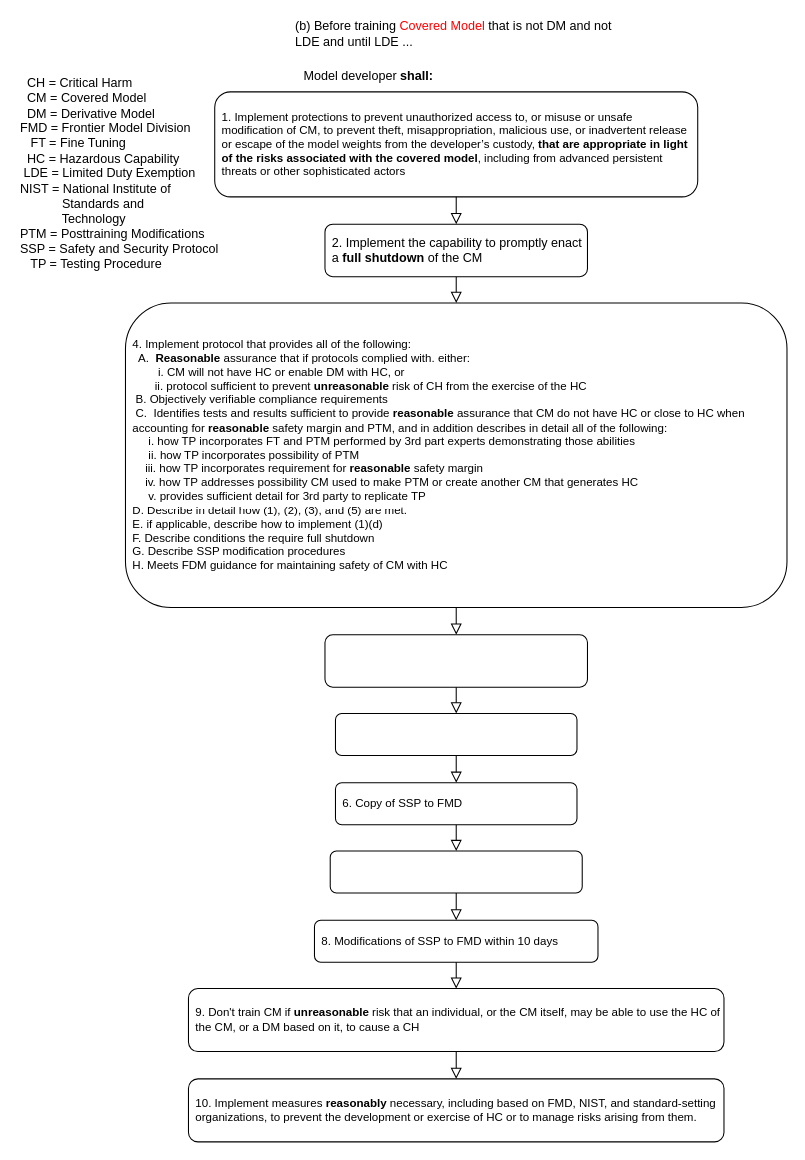
The diagram is 805 pixels wide and 1160 high, and some of its shapes have lost their labels. The box of each missing label's shape, as (x1, y1, x2, y2) in pixels:
3. Implement all covered guidance: (324, 634, 587, 687)
5. Ensure SSP implemented as written: (334, 712, 577, 755)
7. Annual review of SSP, update of needed: (329, 850, 582, 893)
